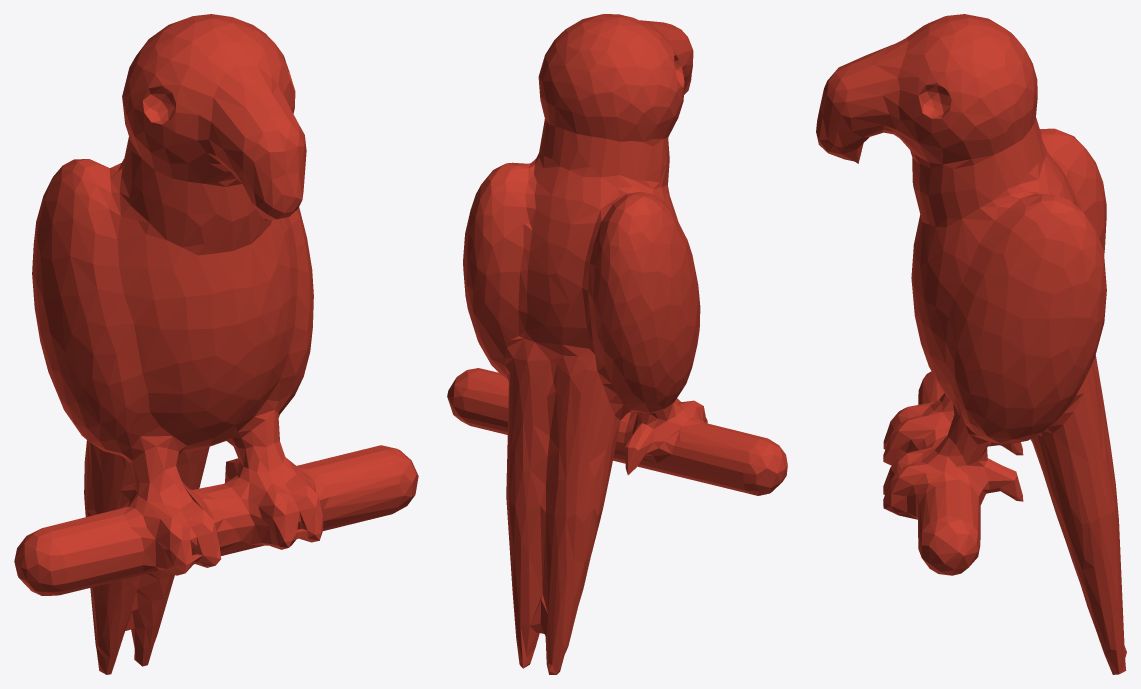
File: NEW_RECOVERY_027_LOD2.glb
The picture shows the model from 3 angles, left to right: view 1: azimuth 30°, elevation 25°; view 2: azimuth 150°, elevation 25°; view 3: azimuth 270°, elevation 25°; orthographic projection. The views are drawn at different scales.
Parts seen in each view (by area): view 1: Parrot_sculpture; view 2: Parrot_sculpture; view 3: Parrot_sculpture.
Boxes of the visible parts, left/top/right/bottom form: Parrot_sculpture: left=14, top=14, right=418, bottom=674; Parrot_sculpture: left=447, top=14, right=787, bottom=674; Parrot_sculpture: left=816, top=14, right=1126, bottom=674.
Bounding box in the file's own units: 1.83 × 3.15 × 1.38.
